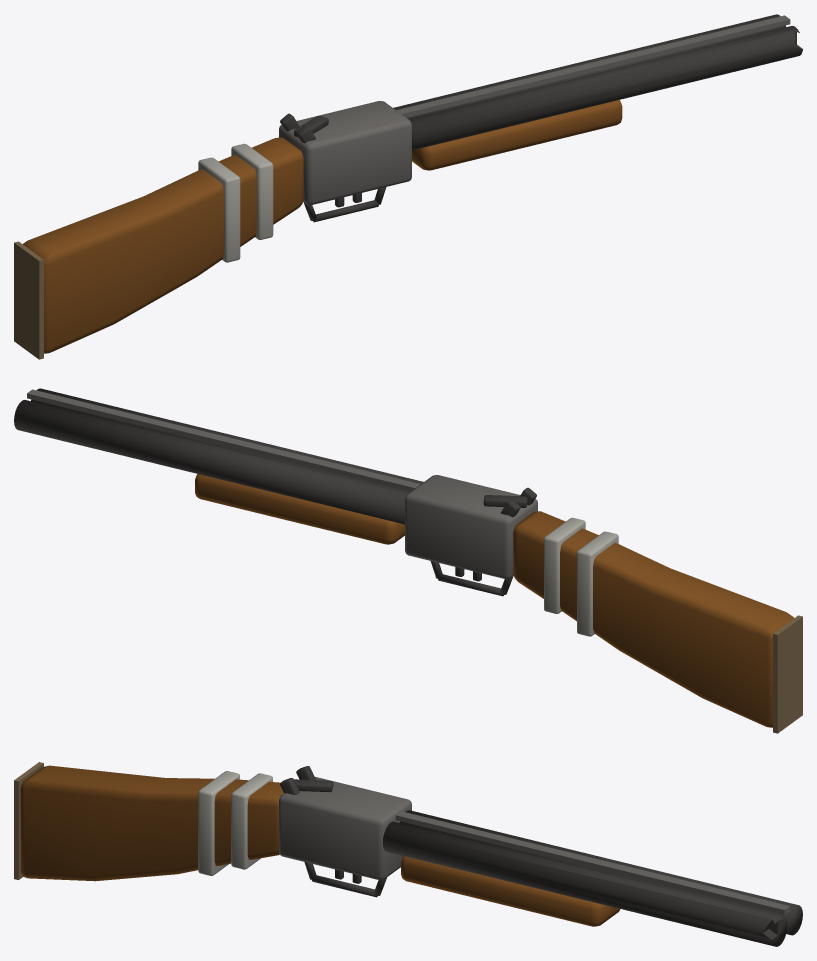
Rendered from gun_shotgun_a.glb.
3 views of the same model, one above another, from view 1: azimuth 30°, elevation 25°; view 2: azimuth 150°, elevation 25°; view 3: azimuth 330°, elevation 25° (orthographic).
Visible parts, largest first — view 1: stock, barrel_0, action, forend, rib_top, cut_end, barrel_2, tape_1, tape_0; view 2: stock, barrel_2, action, forend, rib_top, cut_end, barrel_0, tape_1, tape_0; view 3: stock, barrel_0, action, forend, rib_top, barrel_2, tape_1, tape_0, cut_end, guard_bottom, top_lever.
Part boxes in pixels (x1,y1,x2,y2): stock: [23, 137, 303, 353]; barrel_0: [409, 26, 802, 150]; action: [279, 101, 411, 204]; forend: [412, 100, 622, 170]; rib_top: [396, 15, 790, 117]; cut_end: [14, 241, 43, 359]; barrel_2: [393, 14, 786, 119]; tape_1: [198, 157, 240, 262]; tape_0: [231, 143, 273, 239]; stock: [513, 511, 793, 727]; barrel_2: [14, 400, 407, 524]; action: [405, 475, 537, 578]; forend: [195, 474, 404, 544]; rib_top: [27, 389, 420, 491]; cut_end: [773, 615, 802, 733]; barrel_0: [31, 388, 423, 493]; tape_1: [577, 531, 618, 636]; tape_0: [544, 517, 585, 613]; stock: [20, 765, 283, 881]; barrel_0: [382, 821, 787, 946]; action: [279, 777, 411, 879]; forend: [401, 856, 620, 926]; rib_top: [395, 811, 789, 914]; barrel_2: [399, 810, 802, 935]; tape_1: [198, 771, 239, 875]; tape_0: [231, 773, 272, 869]; cut_end: [14, 762, 43, 879]; guard_bottom: [311, 875, 377, 897]; top_lever: [294, 779, 333, 792].
Size of the model in its own units: 0.6455 by 0.1324 by 0.046.
